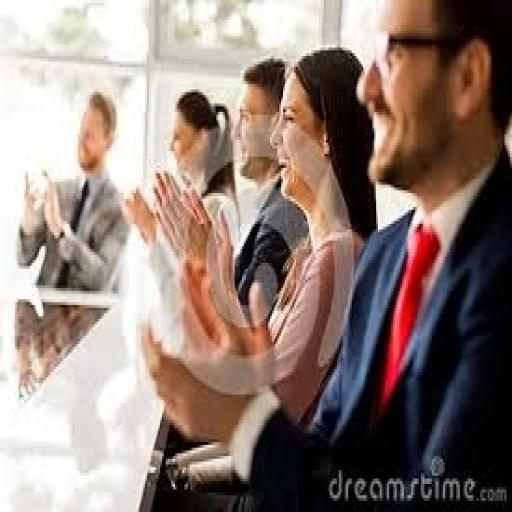clapping: (147, 0, 510, 509), (13, 87, 130, 294)
